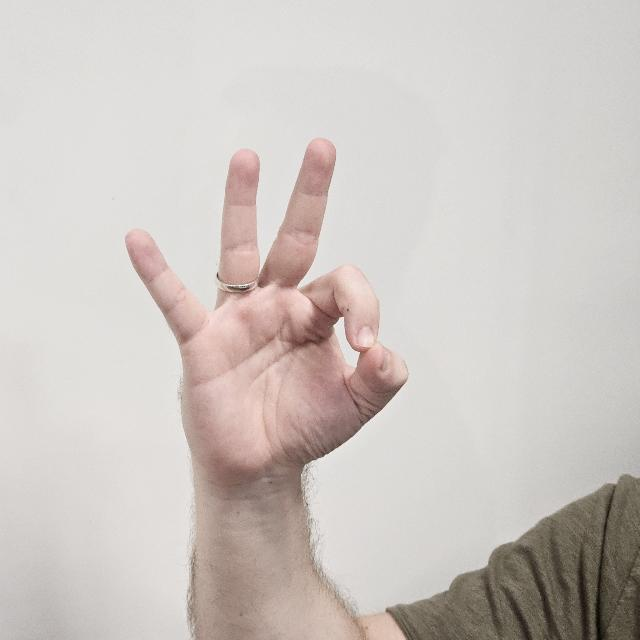Bolinha: (119, 132, 439, 488)
